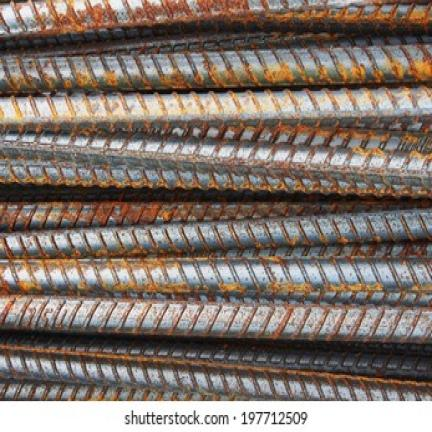karat: (0, 0, 431, 38)
